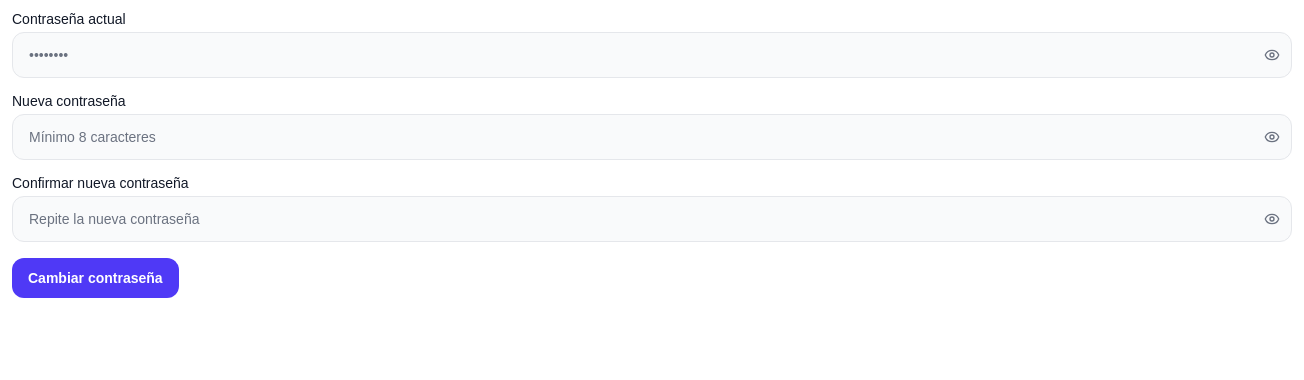
Test case: ChangePasswordForm › shows success message on successful password change
In the password field labelled "Contraseña actual": (652, 55) [12, 32, 1292, 78], type "oldpass123"
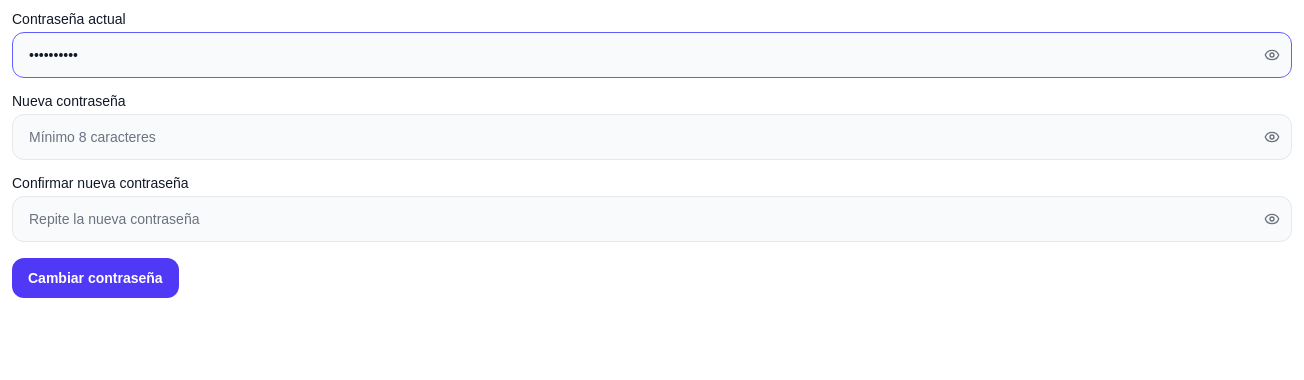
In the password field labelled "Nueva contraseña": (652, 137) [12, 114, 1292, 160], type "newpass123"
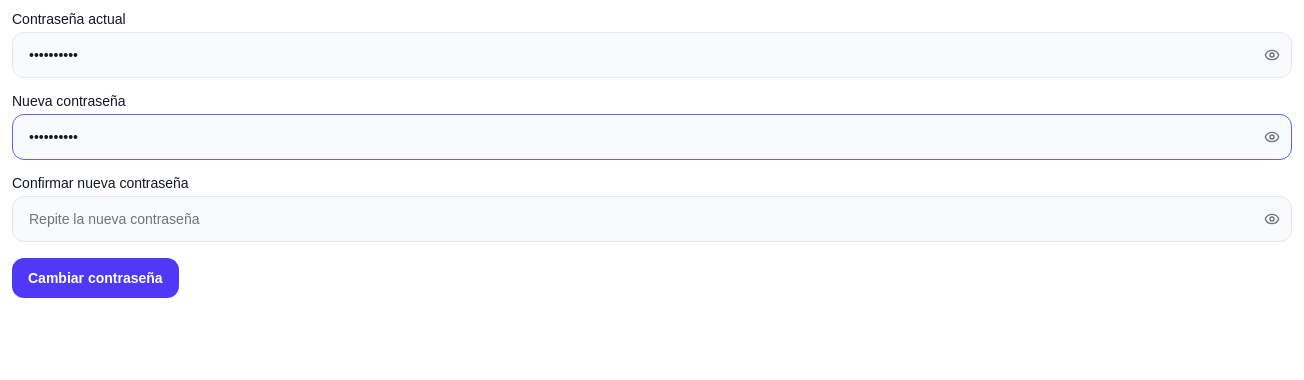
In the password field labelled "Confirmar nueva contraseña": (652, 219) [12, 196, 1292, 242], type "newpass123"
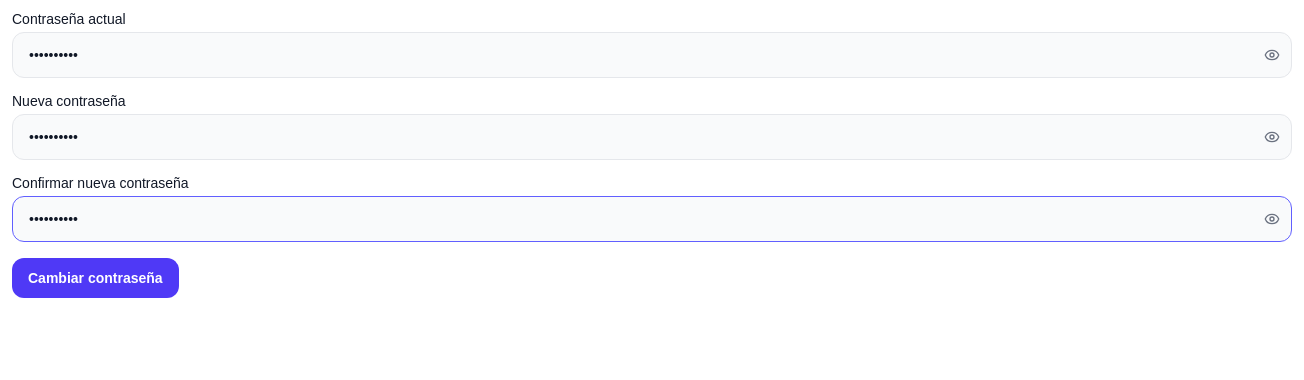
Submit the form "Cambiar contraseña"
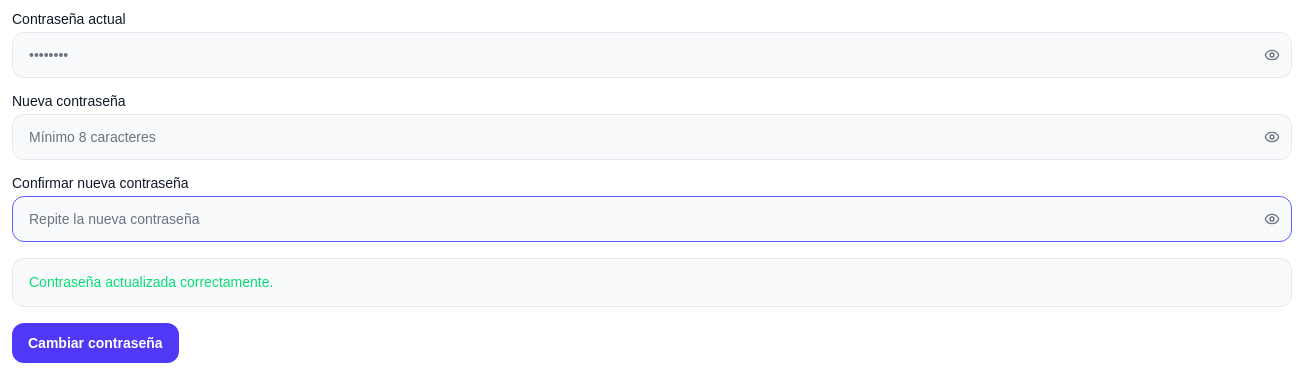
Result: the text "Contraseña actualizada correctamente." is shown at [29, 274, 273, 290]
